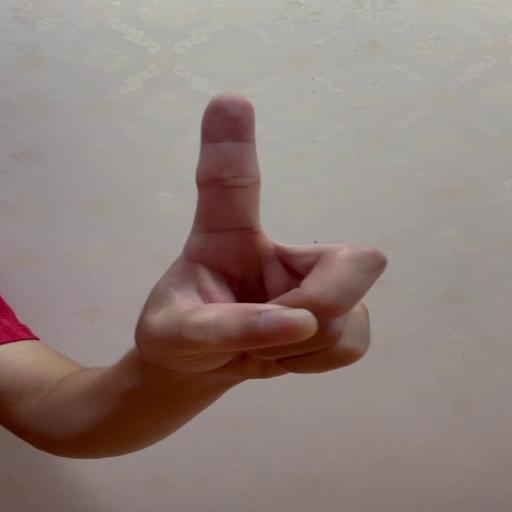point: (173, 91, 391, 387)
